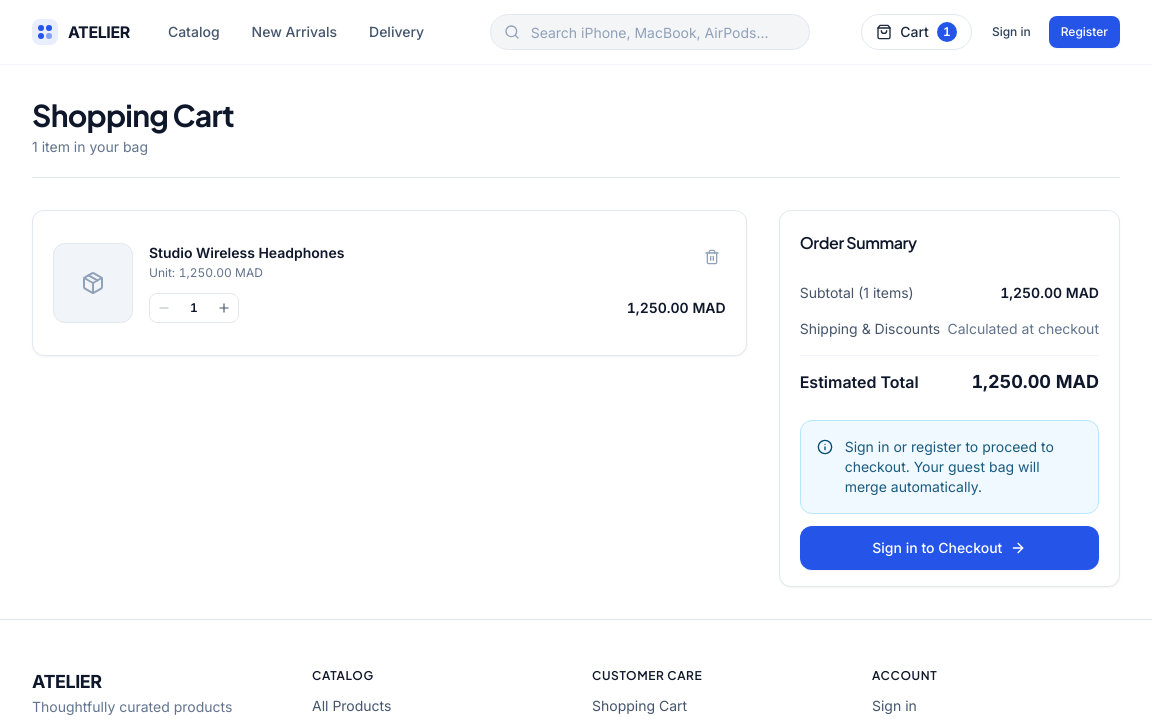
Test: Product Listing, Details, and Cart › updates cart line quantity and handles stock limit errors
Expected: the link "Studio Wireless Headphones" is shown, [149, 243, 344, 263]
Click the button named "increase quantity": x=224, y=308 [210, 294, 238, 322]
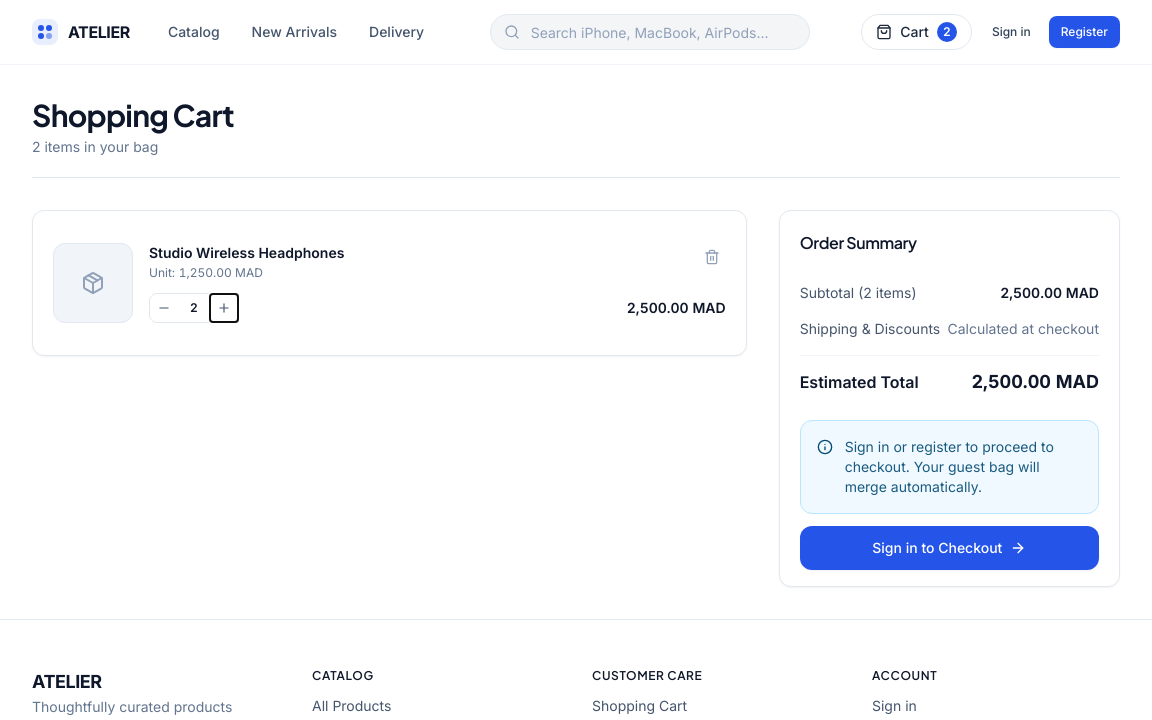
Click the button named "increase quantity": x=224, y=308 [210, 294, 238, 322]
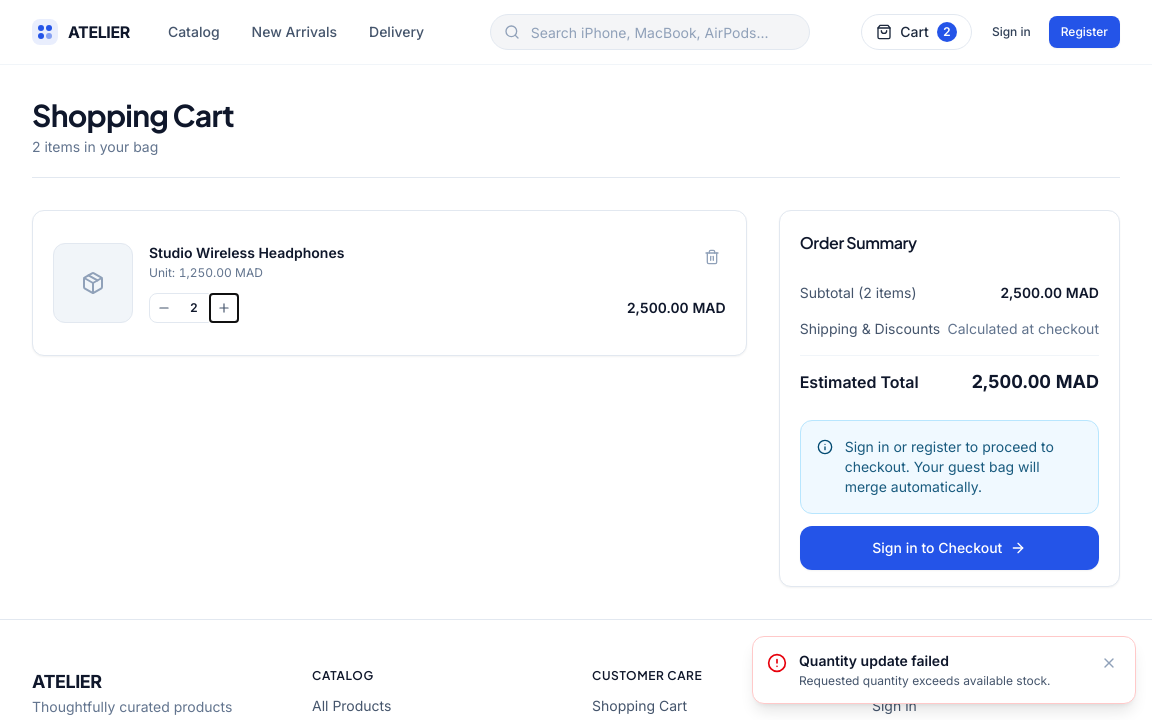
Expected: the text "Requested quantity exceeds available stock." is shown, [799, 673, 1085, 689]
